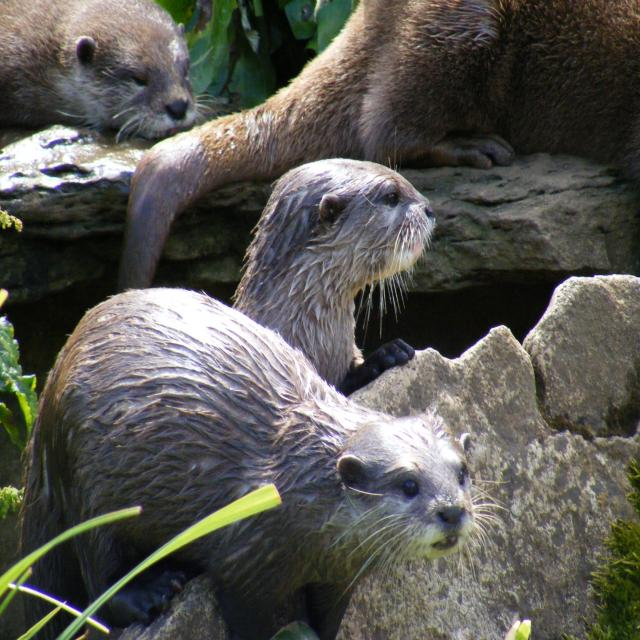otter: (27, 284, 475, 610), (232, 157, 437, 399), (1, 1, 198, 140)
